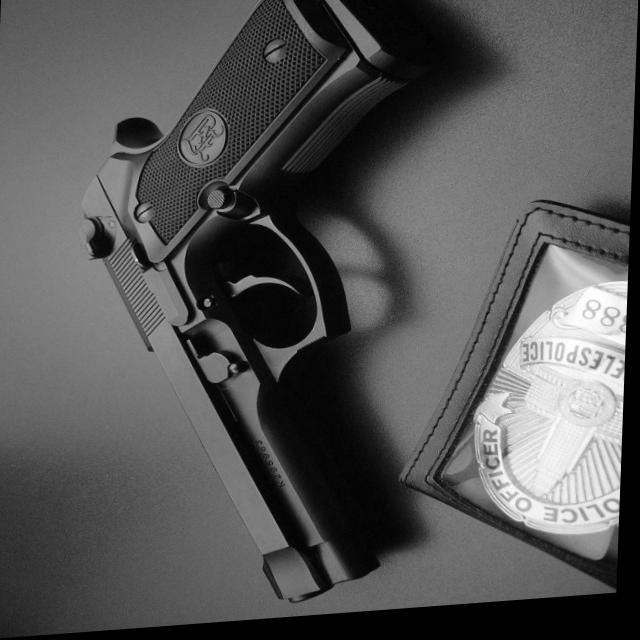handgun: (65, 0, 420, 621)
